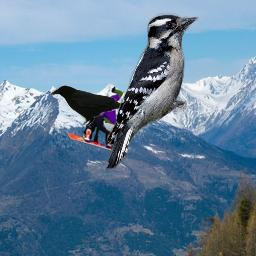Crow: (48, 83, 135, 126)
Woodpecker: (105, 12, 199, 170)
